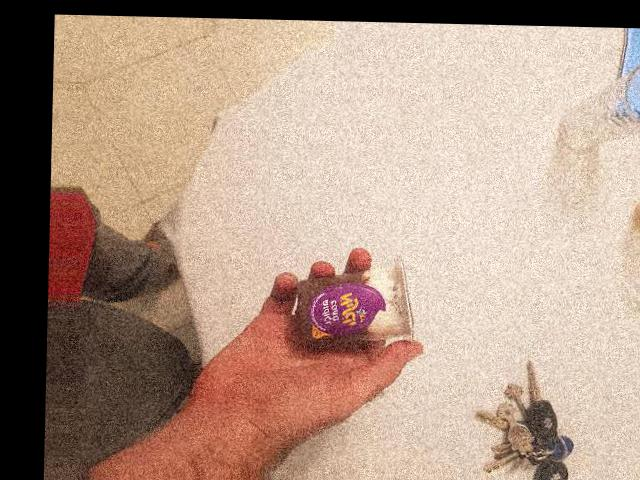milky: (349, 107, 440, 232)
